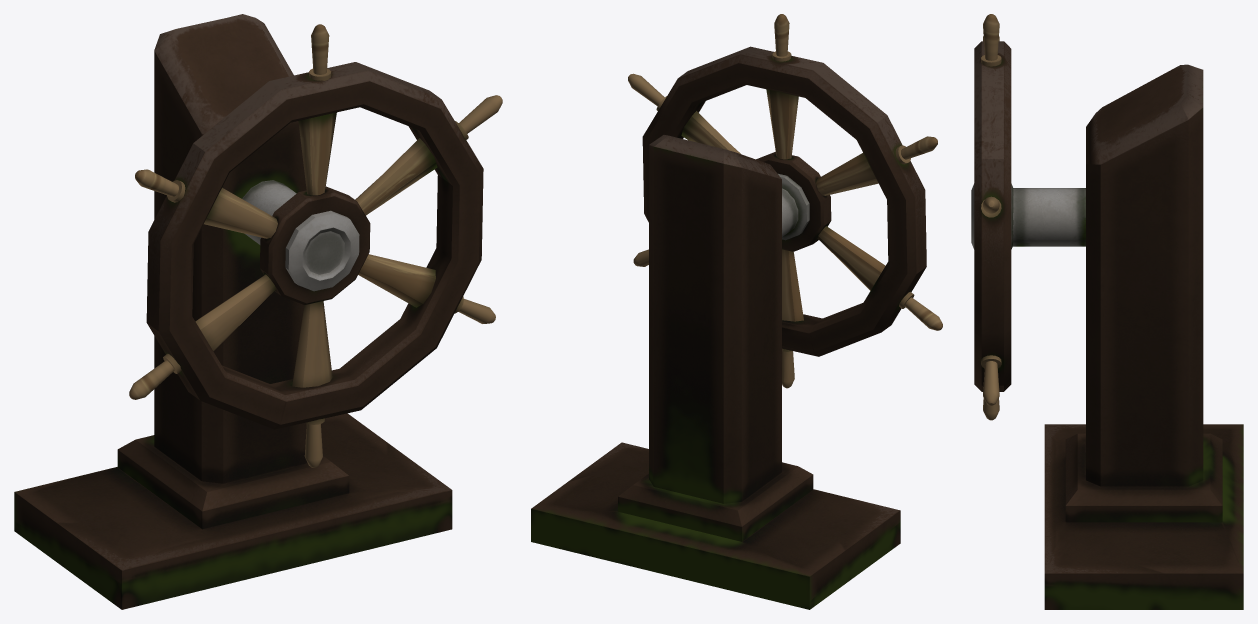
File: HelmComplete.fbx
3 renders of one model, left to right at view 1: azimuth 30°, elevation 25°; view 2: azimuth 150°, elevation 25°; view 3: azimuth 270°, elevation 25°, orthographic. The views are drawn at different scales.
Parts seen in each view (by area): view 1: barre; view 2: barre; view 3: barre.
Part boxes in pixels (x1,y1,x2,y2): barre: [14, 14, 502, 609]; barre: [531, 14, 942, 609]; barre: [971, 14, 1243, 609].
Bounding box in the file's own units: 1.61 × 2.34 × 1.1.
